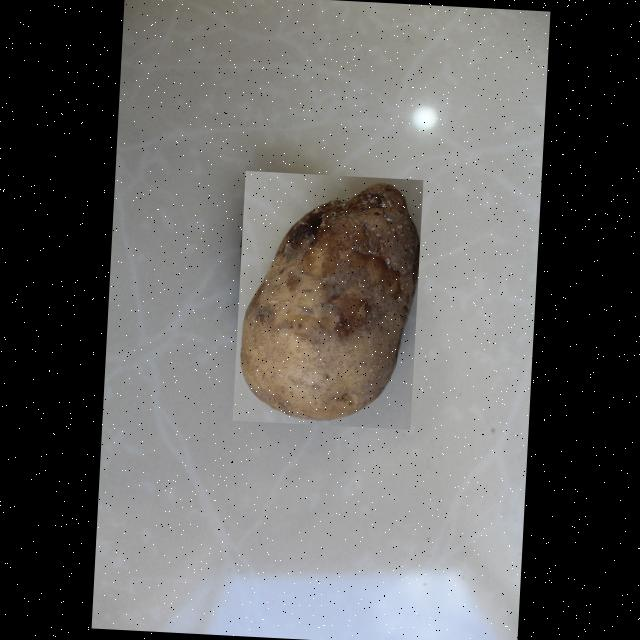Diseased-fungal potato: (232, 171, 422, 430)
